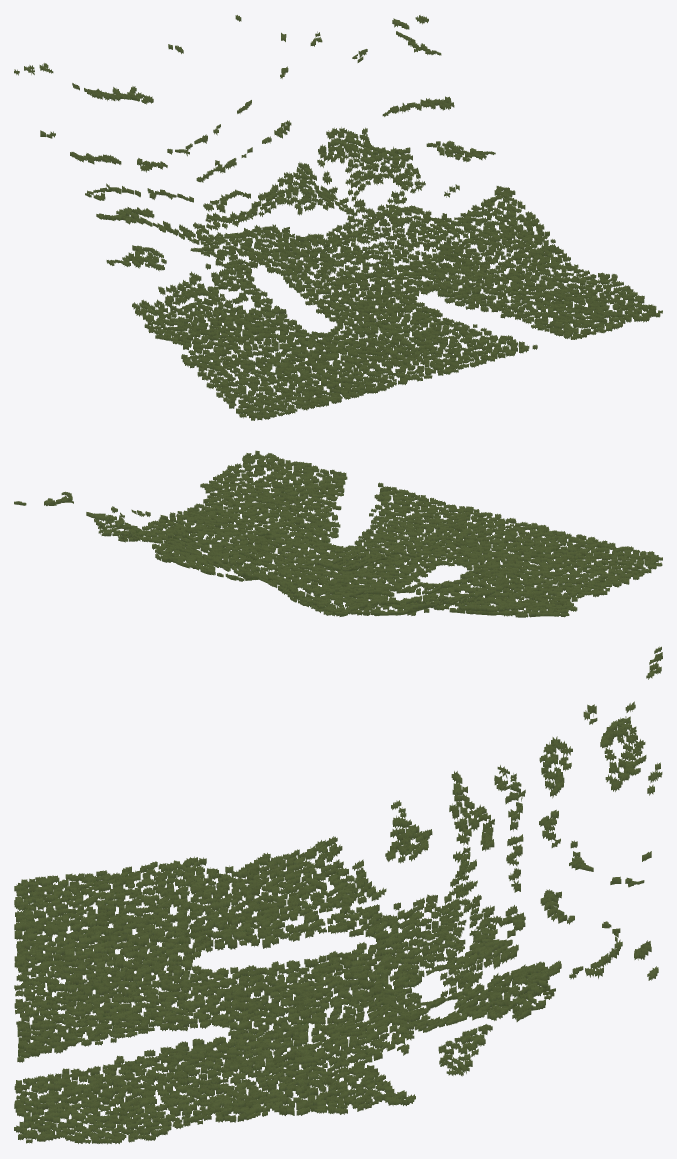
Rendered from TRB8-GRASS-CHUNK-4-2.glb.
3 renders of one model, top to bottom at view 1: azimuth 30°, elevation 25°; view 2: azimuth 150°, elevation 25°; view 3: azimuth 270°, elevation 25°, orthographic. The views are drawn at different scales.
Parts seen in each view (by area): view 1: TRB8-GRASS-CHUNK-4-2; view 2: TRB8-GRASS-CHUNK-4-2; view 3: TRB8-GRASS-CHUNK-4-2.
Part boxes in pixels (bbox=[...]): TRB8-GRASS-CHUNK-4-2: bbox=[14, 15, 662, 420]; TRB8-GRASS-CHUNK-4-2: bbox=[14, 450, 662, 617]; TRB8-GRASS-CHUNK-4-2: bbox=[14, 646, 662, 1144].
Size of the model in its own units: 40.43 by 16.69 by 40.52.
1 material, 1 textured.
